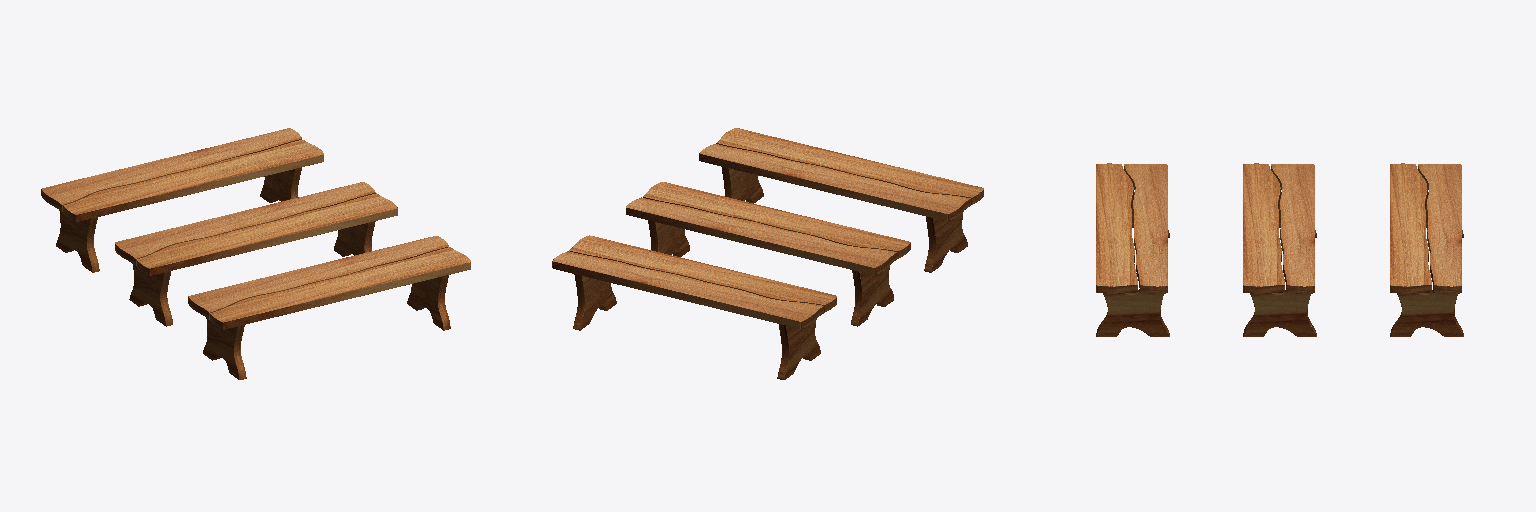
The picture shows the model from 3 angles: view 1: azimuth 30°, elevation 25°; view 2: azimuth 150°, elevation 25°; view 3: azimuth 270°, elevation 25°; orthographic projection.
Visible parts, largest first — view 1: bench; view 2: bench; view 3: bench.
Part boxes in pixels (x1,y1,x2,y2): bench: (41,128,470,379); bench: (552,128,983,379); bench: (1096,163,1463,336).
Size of the model in its own units: 2.82 by 0.6632 by 3.55.
1 materials, 1 textured.